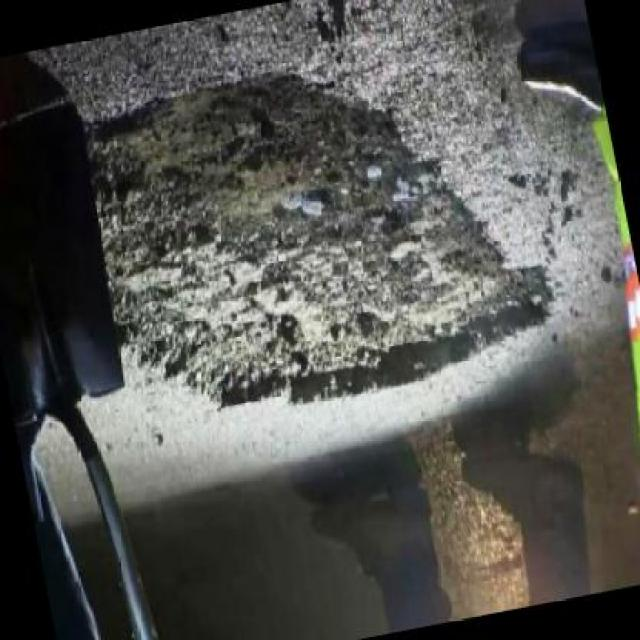pothole1: (36, 30, 570, 452)
